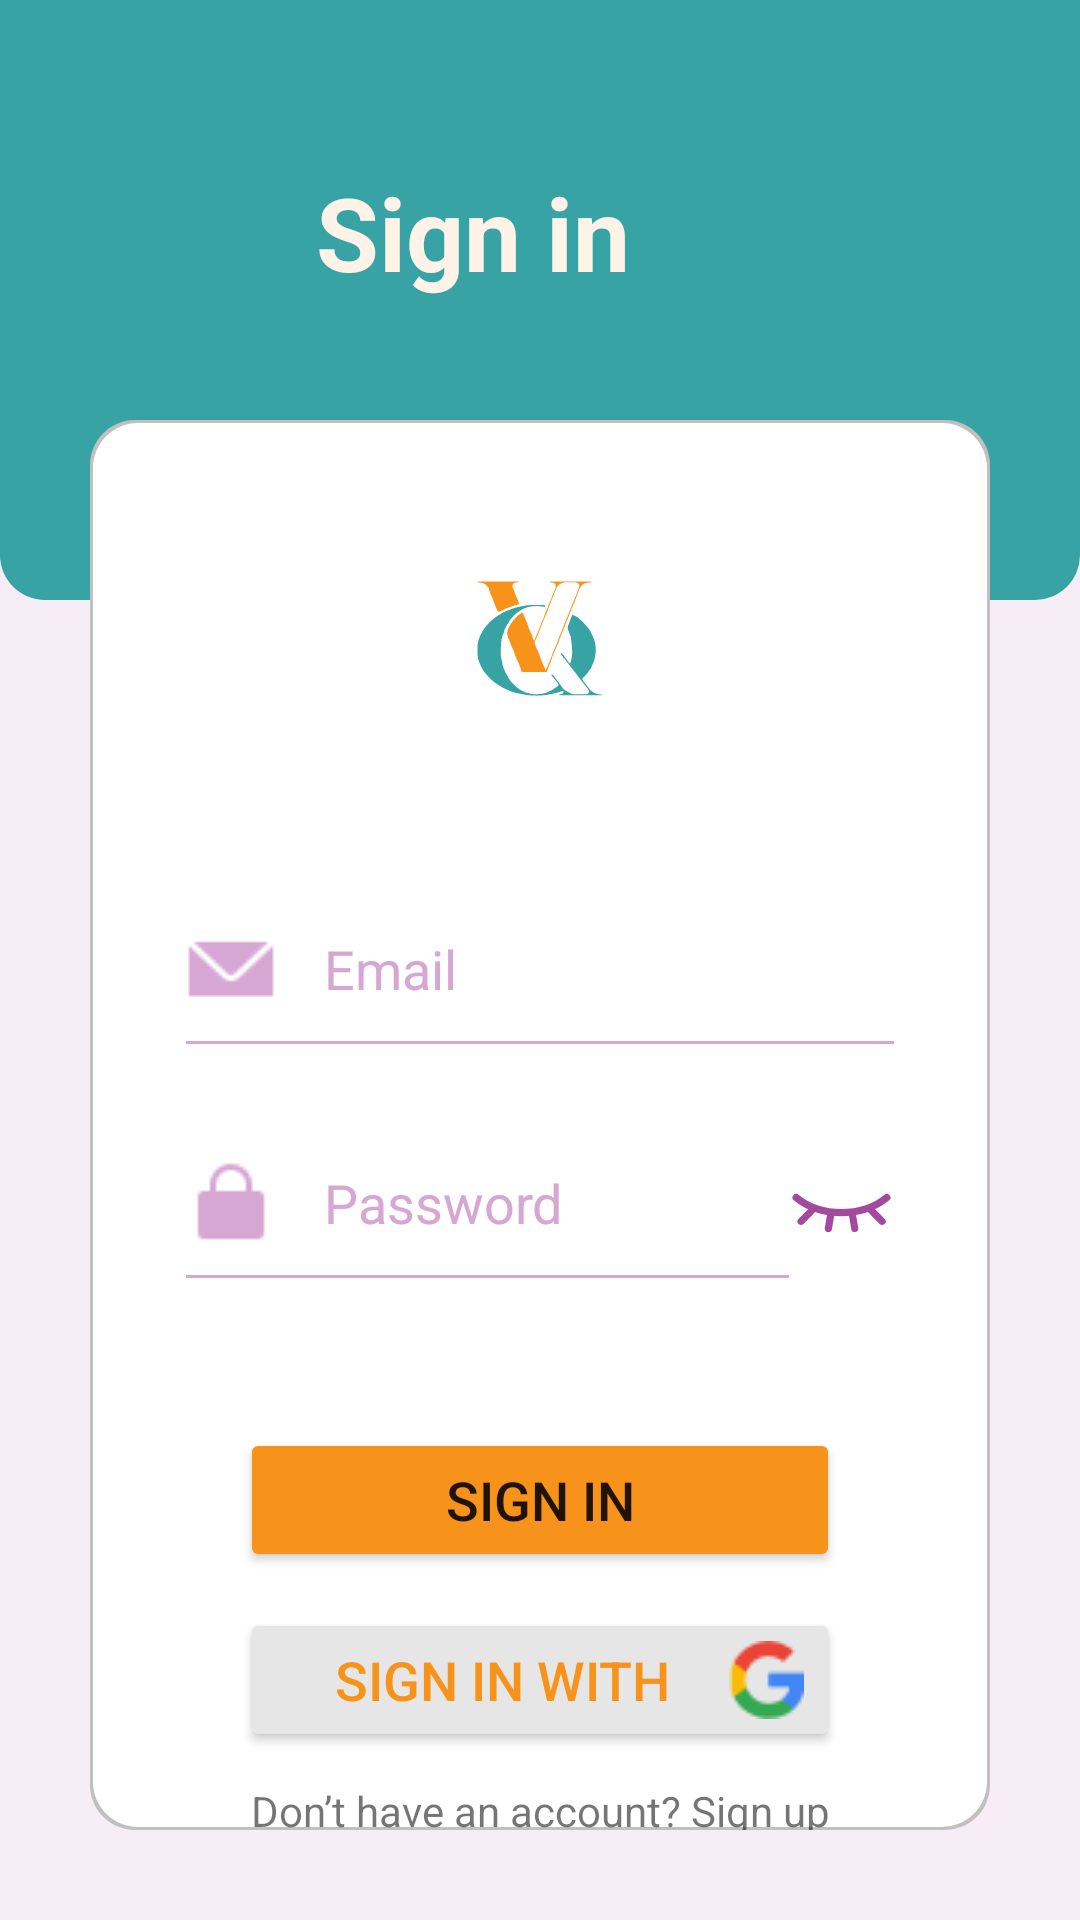

Icons on this 1080w x 1920h Android screen, each with its box as (x1, y1, x2, y2):
eye closed: (792, 1193, 891, 1232)
